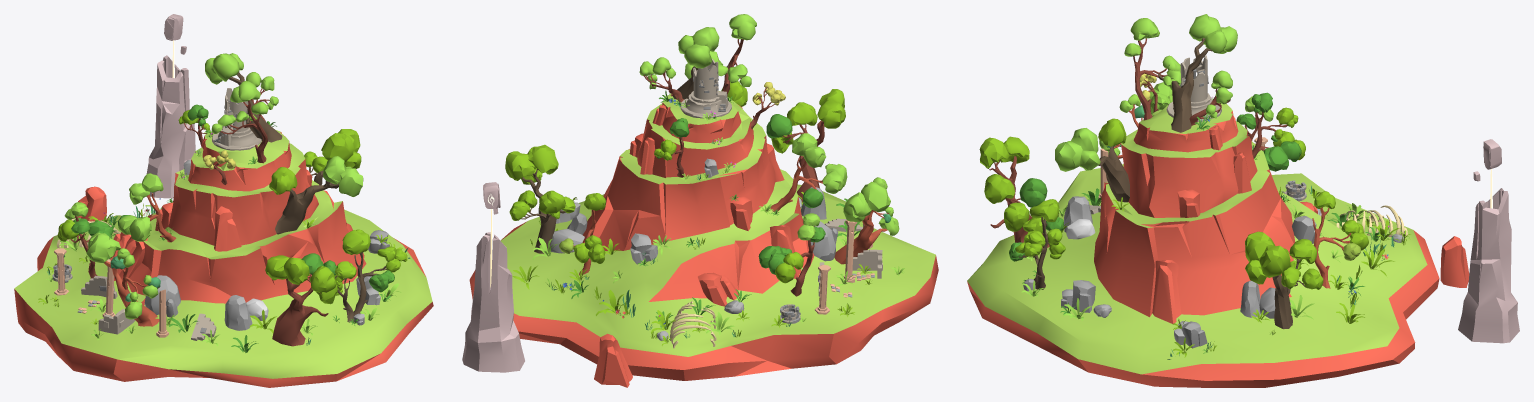
The model's file is fantasy_island.glb.
3 renders of one model, left to right at view 1: azimuth 30°, elevation 25°; view 2: azimuth 150°, elevation 25°; view 3: azimuth 270°, elevation 25°, orthographic. The views are drawn at different scales.
Visible parts, largest first — view 1: Plane.014, Cylinder.009, Cube.016, Cube.070, Cylinder.002, Mball.005, Mball.112, Mball.021, Mball.004, Cube.076, Mball.001, Icosphere.003 (+22 smaller); view 2: Plane.014, Cylinder.009, Cylinder.002, Mball.005, Cube.080, Mball.035, Mball.001, Mball.112, Mball.004, Cube.013, Mball.061, Cube.038 (+18 smaller); view 3: Plane.014, Cylinder.009, Mball.005, Cube.077, Mball.021, Cube.015, Mball.001, Cube.080, Mball.004, Cylinder.002, Mball.112, Cube.070 (+21 smaller).
Boxes of the visible parts, x1,y1,x2,y2 form: Plane.014: [14, 130, 433, 387]; Cylinder.009: [146, 55, 195, 198]; Cube.016: [272, 276, 328, 346]; Cube.070: [275, 181, 338, 234]; Cylinder.002: [212, 88, 261, 150]; Mball.005: [321, 129, 361, 168]; Mball.112: [211, 81, 268, 133]; Mball.021: [323, 156, 363, 196]; Mball.004: [265, 255, 309, 284]; Cube.076: [214, 206, 241, 251]; Mball.001: [205, 53, 243, 84]; Icosphere.003: [224, 295, 252, 330]; Plane.014: [469, 91, 938, 380]; Cylinder.009: [462, 232, 524, 372]; Cylinder.002: [680, 59, 731, 118]; Mball.005: [505, 144, 558, 184]; Cube.080: [594, 333, 632, 387]; Mball.035: [843, 181, 890, 221]; Mball.001: [678, 27, 719, 68]; Mball.112: [718, 14, 756, 87]; Mball.004: [817, 89, 845, 128]; Cube.013: [834, 210, 887, 264]; Mball.061: [792, 133, 826, 167]; Cube.038: [522, 169, 565, 253]; Plane.014: [967, 99, 1439, 387]; Cylinder.009: [1458, 188, 1519, 343]; Mball.005: [1245, 231, 1290, 284]; Cube.077: [1152, 260, 1181, 323]; Mball.021: [1055, 128, 1100, 171]; Cube.015: [1158, 38, 1212, 132]; Mball.001: [1189, 14, 1237, 53]; Cube.080: [1440, 236, 1469, 287]; Mball.004: [979, 136, 1029, 168]; Cylinder.002: [1166, 55, 1221, 122]; Mball.112: [1124, 18, 1181, 86]; Cube.070: [1098, 145, 1129, 202].
Size of the model in its own units: 142 by 94.32 by 165.
